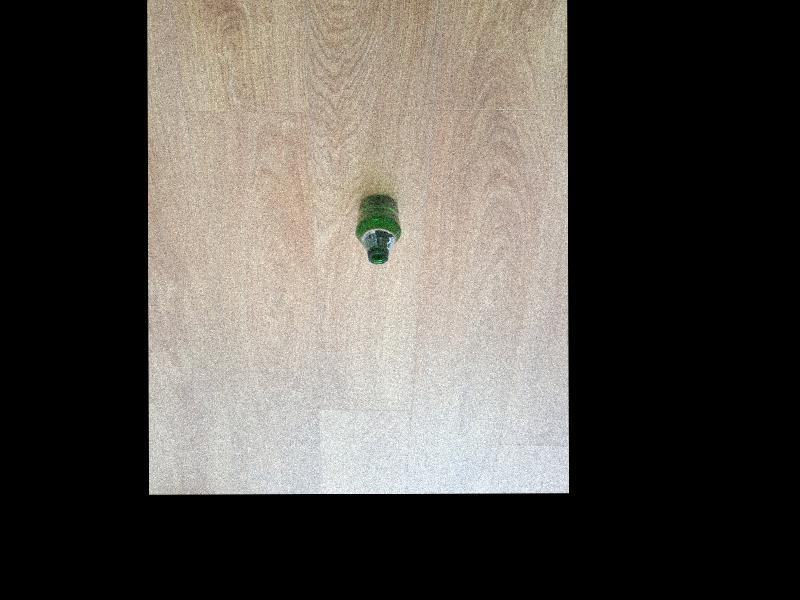Beer: (352, 193, 400, 264)
